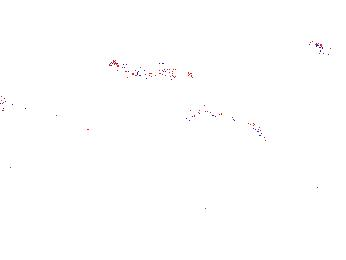glassfish: (1, 89, 79, 147), (170, 102, 268, 142)
red belly glassfish: (307, 38, 333, 56)
redtail glassfish: (109, 56, 178, 82)
